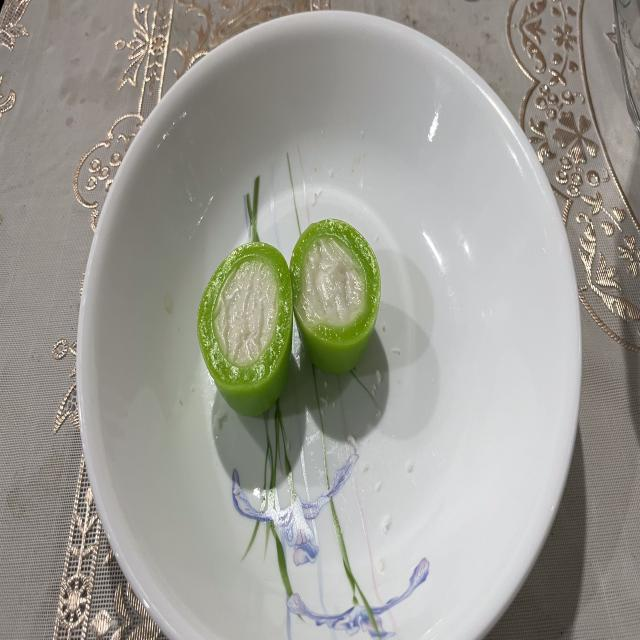nona-manis: (198, 240, 292, 416), (290, 220, 380, 373)
